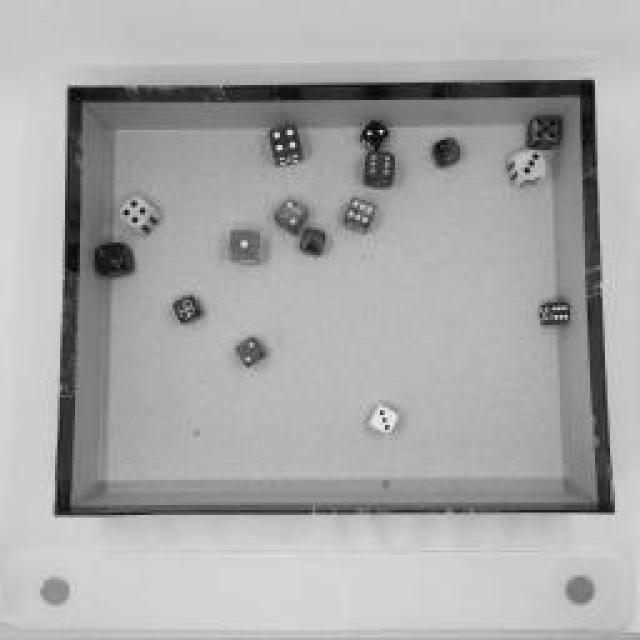dice_1: (221, 226, 269, 264), (292, 228, 330, 262)
dice_2: (85, 240, 147, 275), (342, 118, 398, 152), (270, 194, 310, 236), (230, 336, 275, 369)
dice_3: (504, 151, 556, 189), (364, 399, 401, 441)
dice_4: (255, 122, 313, 178), (112, 191, 168, 239), (165, 294, 210, 331)
dice_5: (420, 135, 465, 173), (525, 114, 565, 146)
dice_6: (355, 151, 400, 194), (533, 294, 575, 336), (340, 194, 380, 236)
